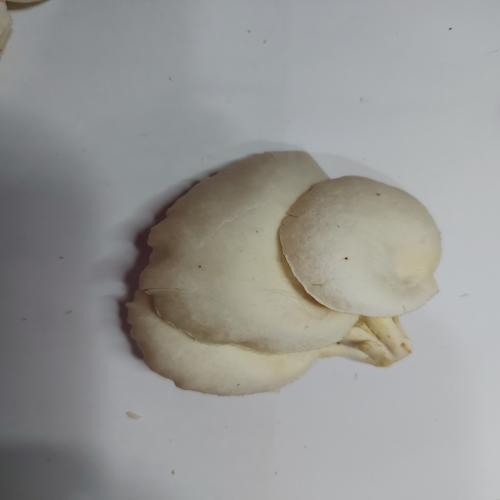Oyster Mushroom: (125, 149, 443, 396)
